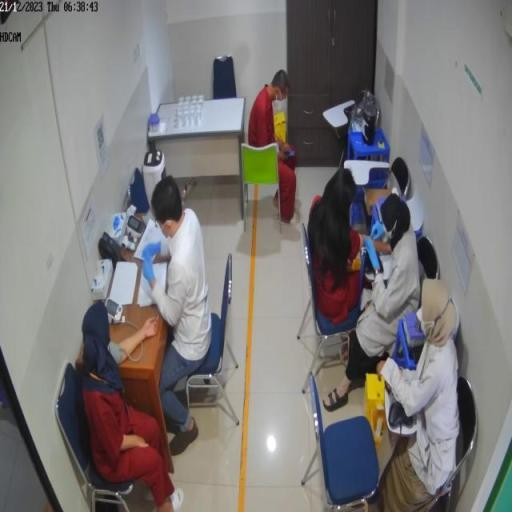person: (322, 194, 422, 414), (81, 300, 183, 512), (144, 176, 214, 451), (379, 283, 461, 510), (309, 169, 375, 328), (249, 70, 298, 223)
